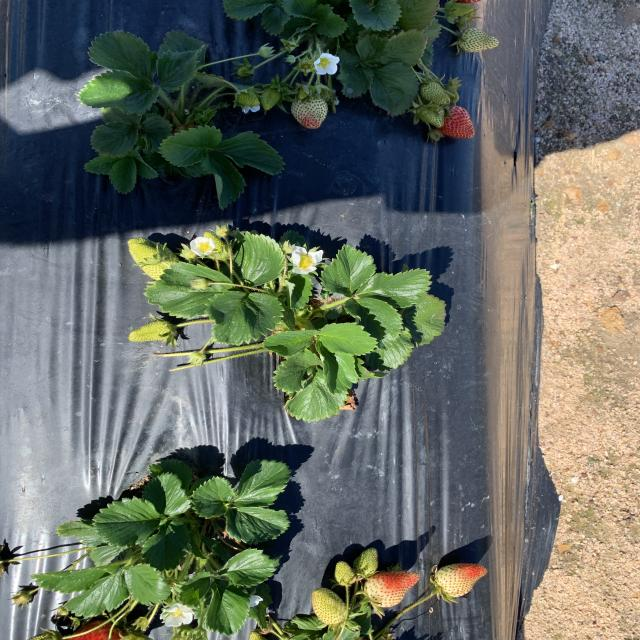unripe: (46, 615, 146, 640), (438, 106, 477, 138)
